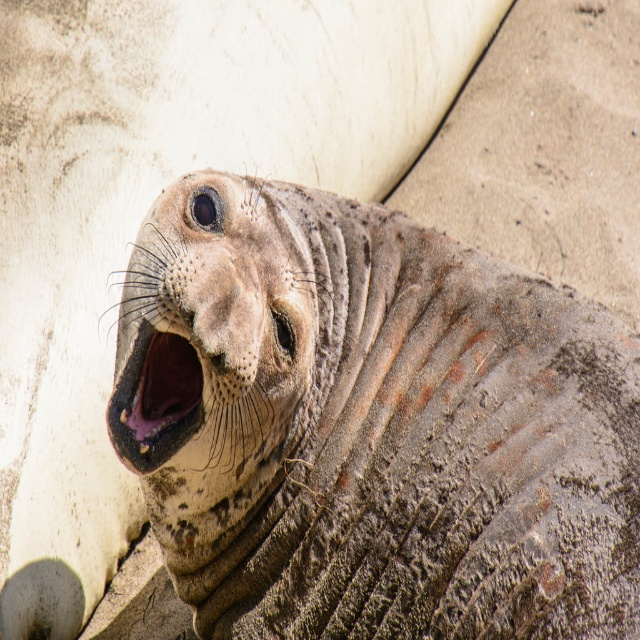Sea lion: (100, 169, 640, 639)
